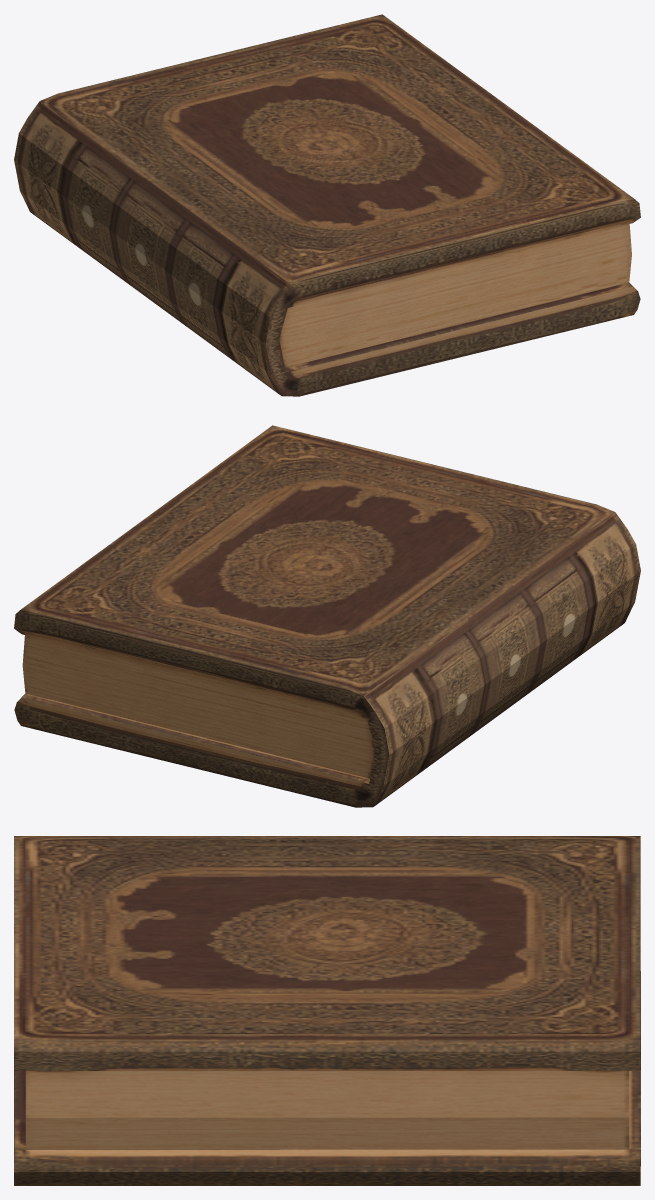
Rendered from Book_03.fbx.
3 views of the same model, one above another, from view 1: azimuth 30°, elevation 25°; view 2: azimuth 150°, elevation 25°; view 3: azimuth 270°, elevation 25° (orthographic). The views are drawn at different scales.
Visible parts, largest first — view 1: Book_03; view 2: Book_03; view 3: Book_03.
Boxes of the visible parts, x1=… form: Book_03: x1=14, y1=14, x2=640, y2=396; Book_03: x1=14, y1=425, x2=640, y2=807; Book_03: x1=14, y1=836, x2=640, y2=1185.
Bounding box in the file's own units: 0.3381 × 0.1002 × 0.3926.
